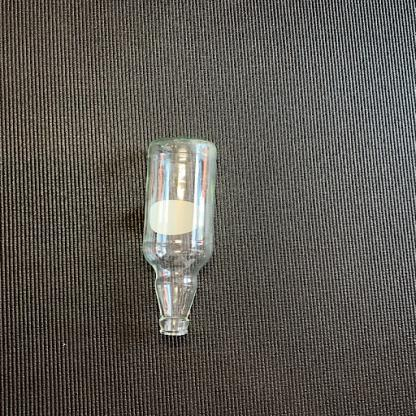trash: (139, 137, 218, 339)
